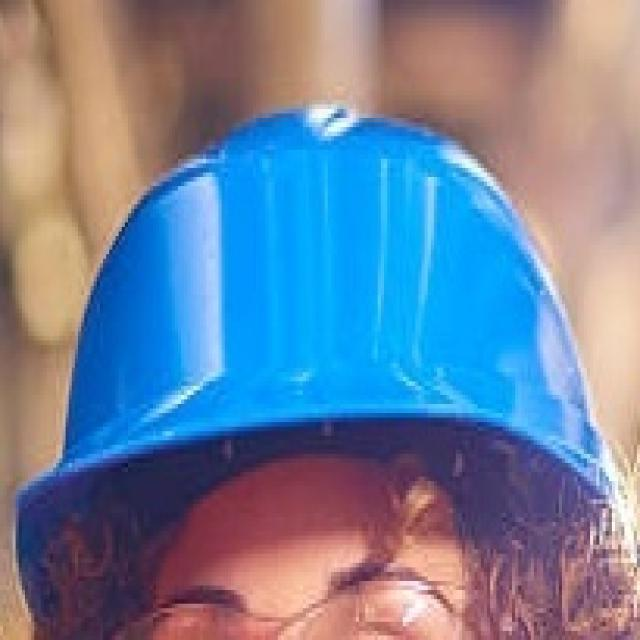helmet: (14, 101, 635, 638)
